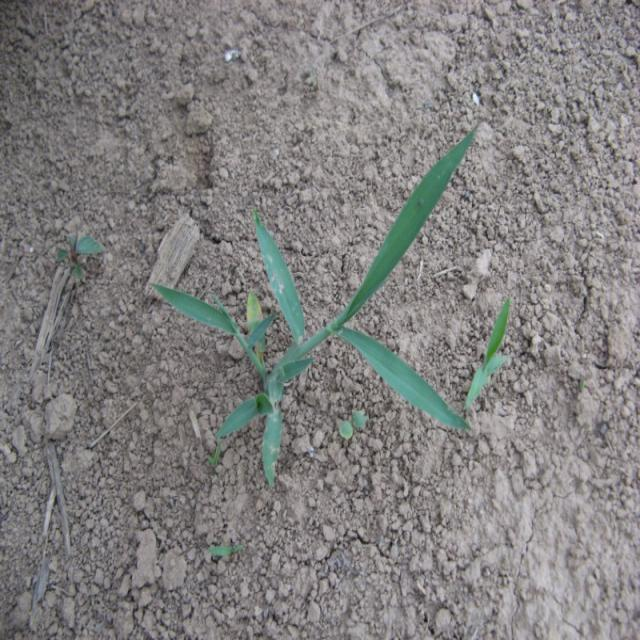bg: (153, 116, 475, 487)
